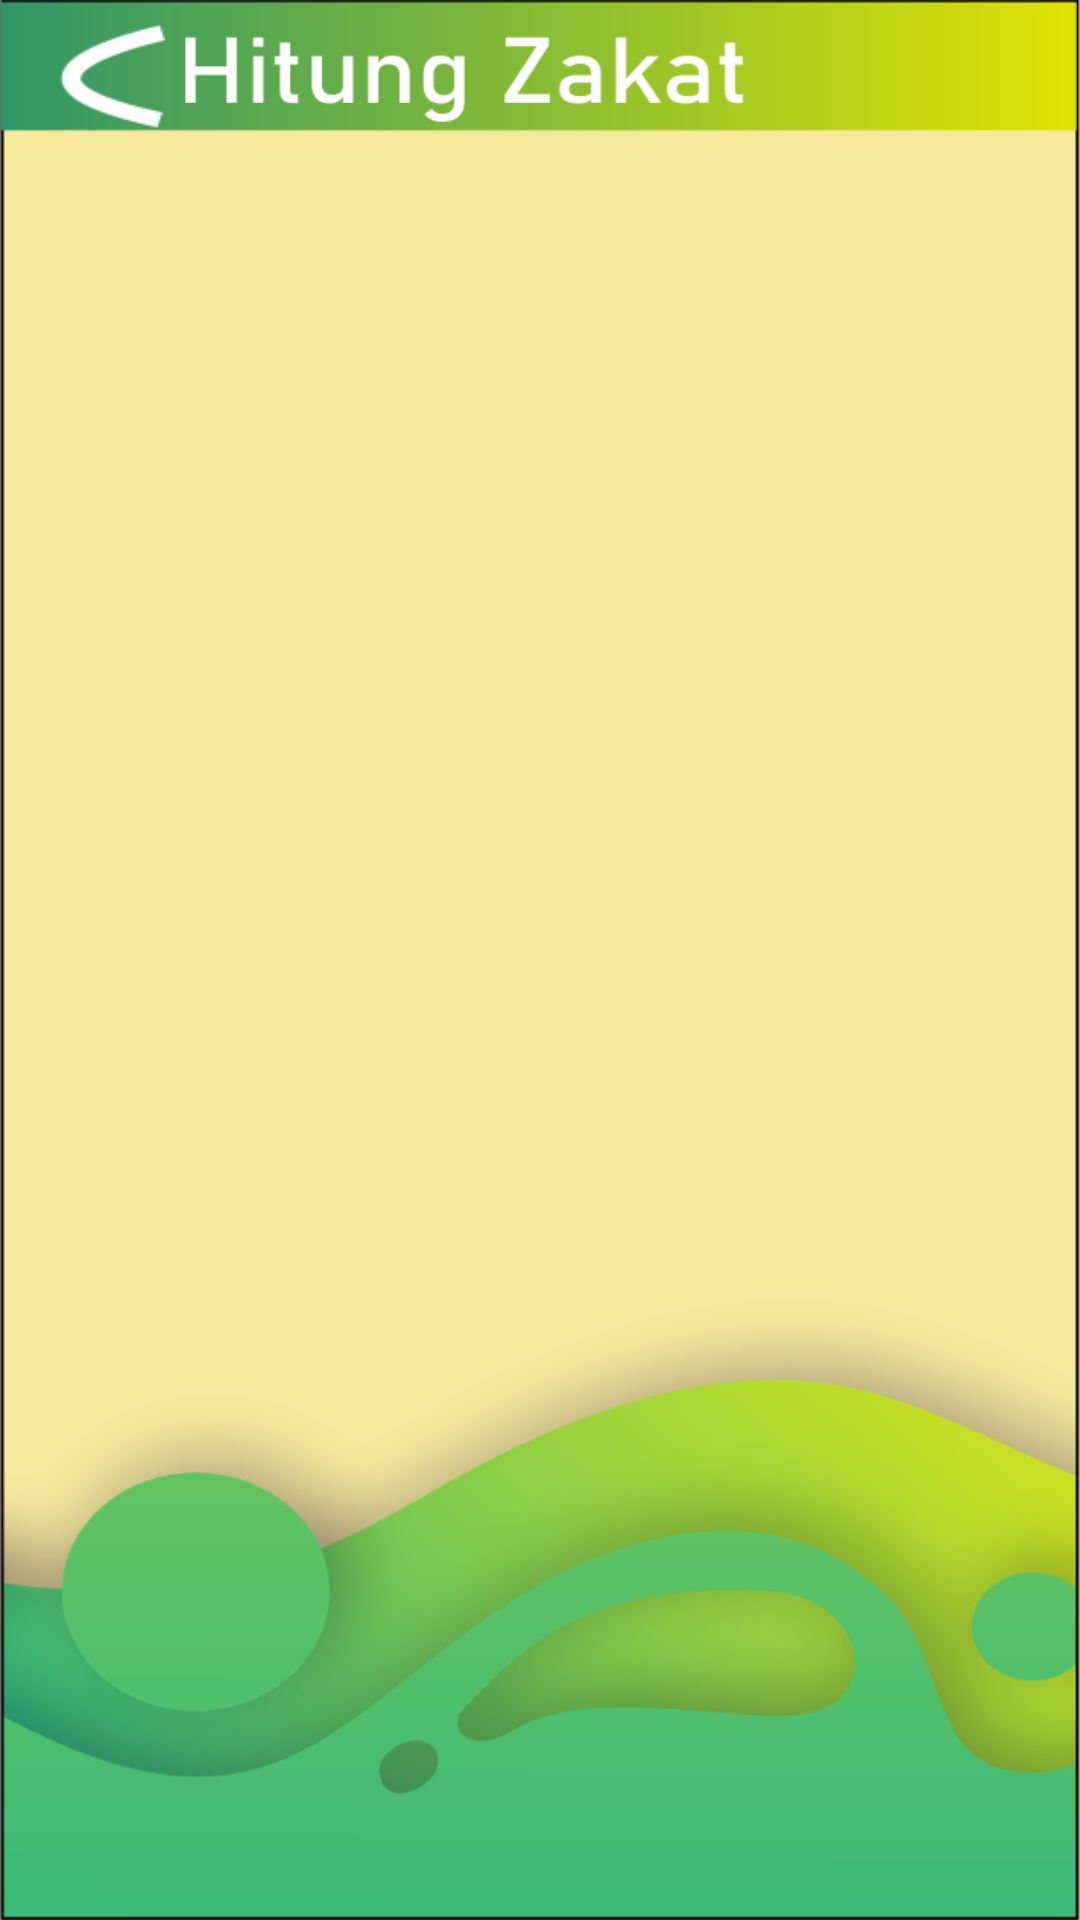

Named icons in this screenshot (1080px×1920px) and their bounding boxes, Rect(x1, y1, x2, y2):
bback: Rect(60, 25, 165, 128)
